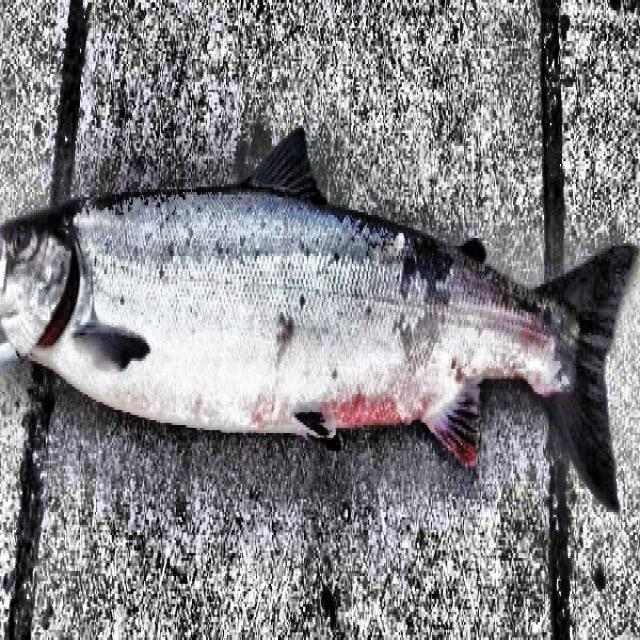mild_red: (39, 189, 559, 430)
wound: (37, 253, 79, 343)
